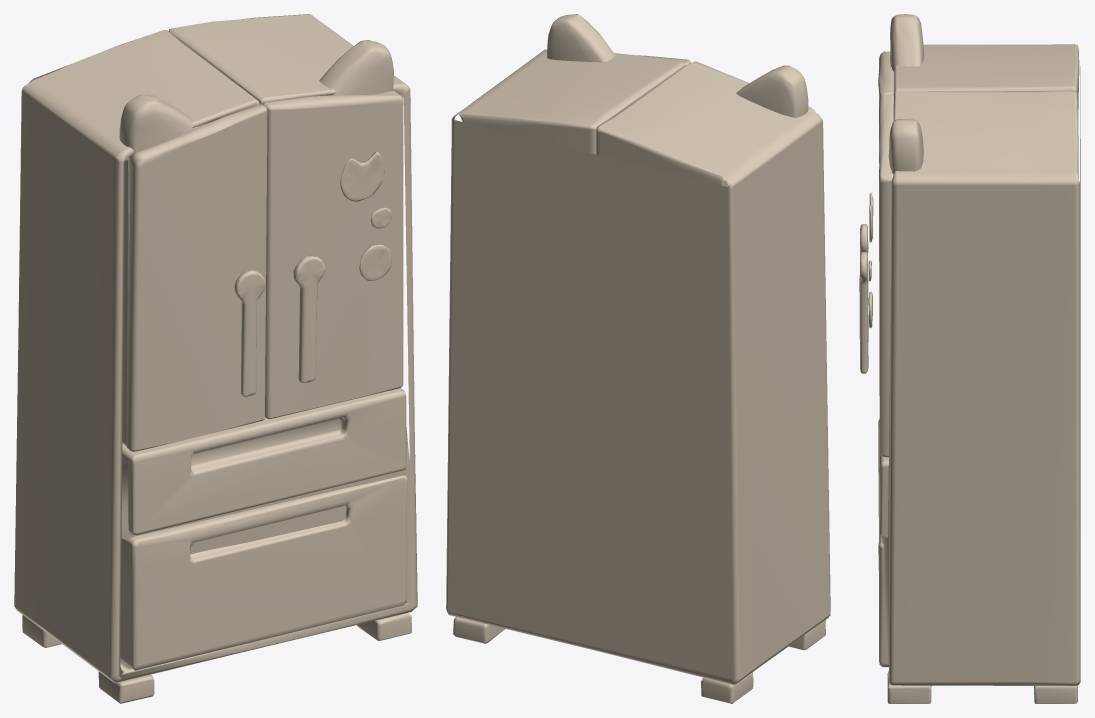
Rendered from kitchen-9-geometry.glb.
3 views of the same model, side by side, from view 1: azimuth 30°, elevation 25°; view 2: azimuth 150°, elevation 25°; view 3: azimuth 270°, elevation 25° (orthographic). The views are drawn at different scales.
Size of the model in its own units: 0.5469 by 1 by 0.3535.
